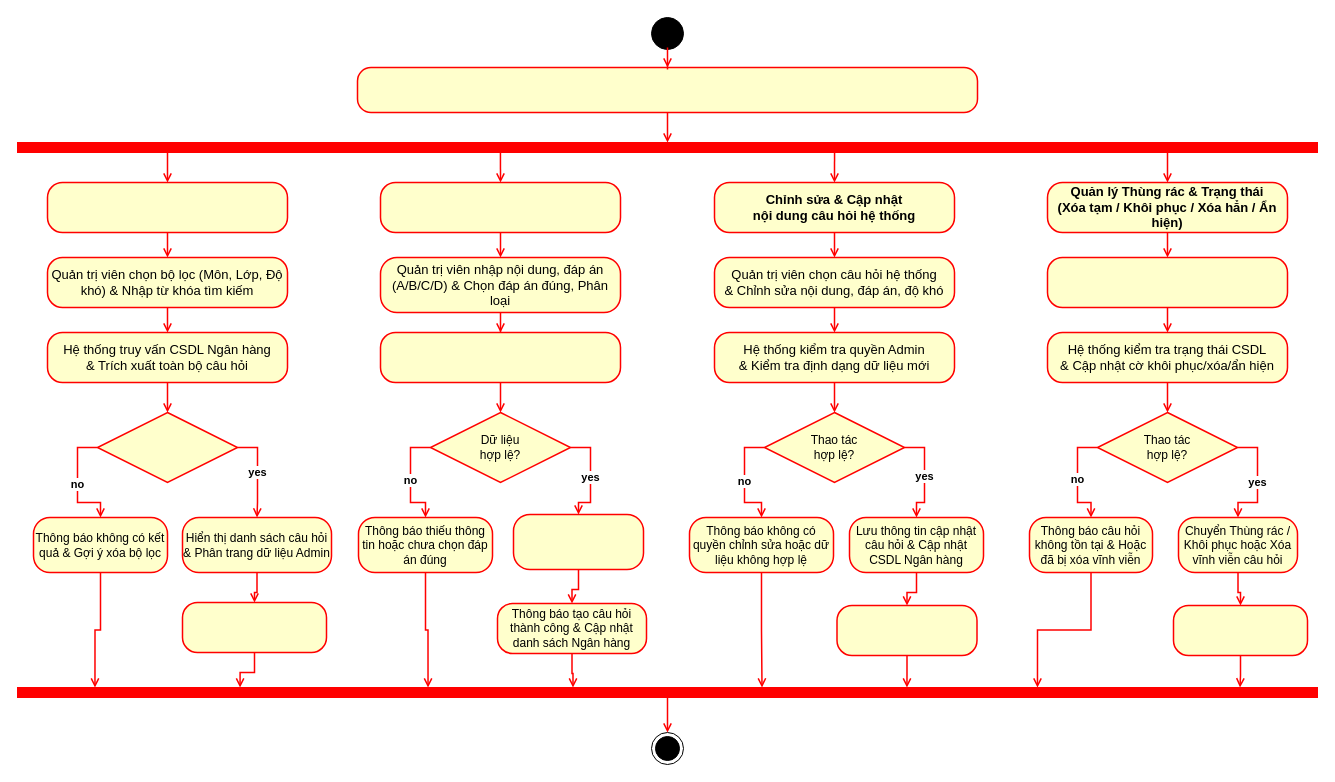
This 1335x782 diagram has some shape labels left out. Each missing label, with the box of its shape:
Cho phép xem chi tiết & Chọn thao tác quản trị: (181, 601, 327, 653)
Hệ thống kiểm tra tính hợp lệ & Tính đầy đủ của dữ liệu: (379, 331, 621, 383)
Lưu câu hỏi mới vào CSDL & Đặt chế độ (Công khai/Riêng tư): (512, 513, 644, 570)
Quản trị viên (Admin) chọn chức năng Quản lý Ngân hàng câu hỏi: (356, 66, 978, 113)
Quản trị viên chọn Chuyển Thùng rác, Khôi phục, Xóa vĩnh viễn hoặc Tắt hiển thị: (1046, 256, 1288, 308)
Thông báo cập nhật thành công & Làm mới hiển thị câu hỏi: (836, 604, 977, 656)
Thông báo xử lý thành công & Cập nhật danh sách Ngân hàng: (1172, 604, 1308, 656)
Tra cứu & Lọc danh sách câu hỏi toàn hệ thống: (46, 181, 288, 233)
Tìm thấy câu hỏi?: (96, 411, 238, 483)
Tạo mới & Thêm câu hỏi chuẩn hóa vào Ngân hàng: (379, 181, 621, 233)
